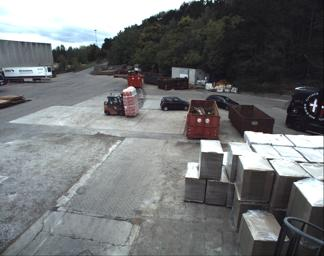rockwool_batts: (122, 85, 138, 114)
